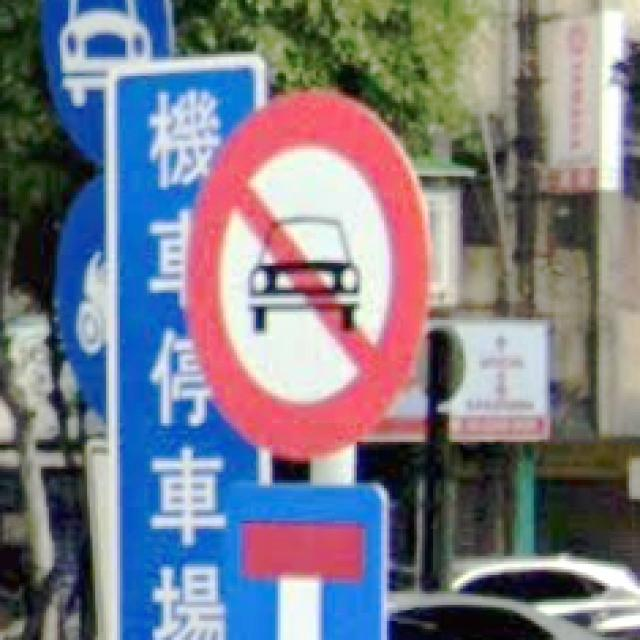nocar: (182, 92, 433, 464)
